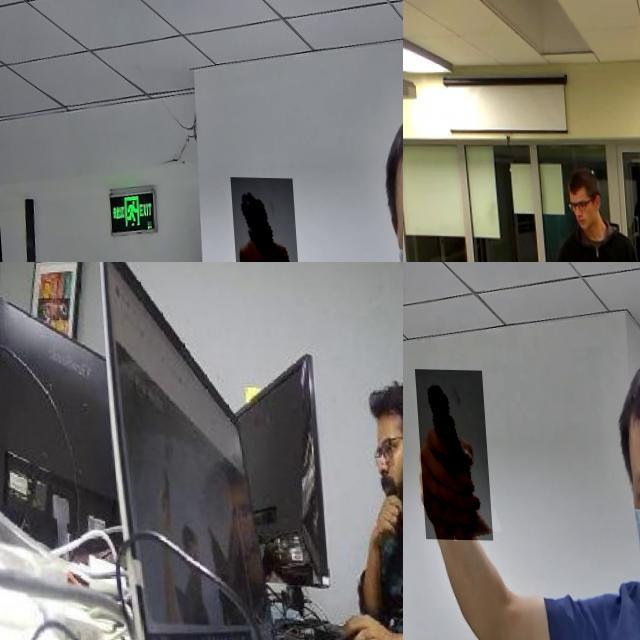gun-knife-thesis - v11 Yolov5 augmented: (412, 368, 488, 539), (225, 176, 295, 262)
